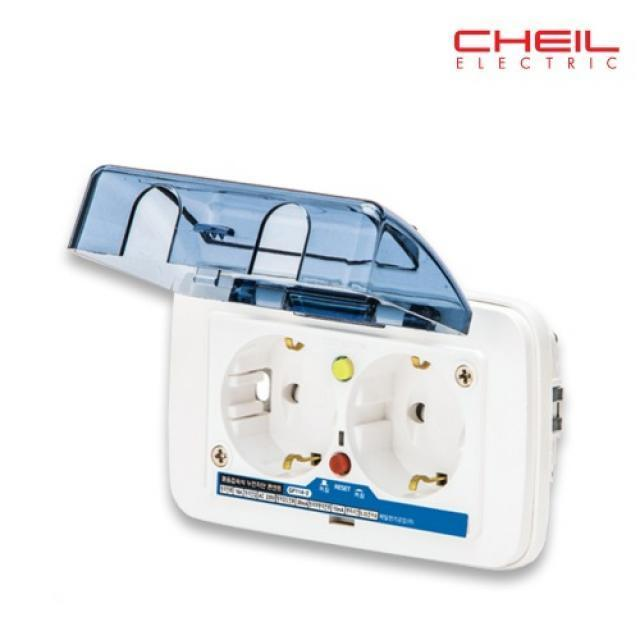typeb: (61, 146, 597, 617)
